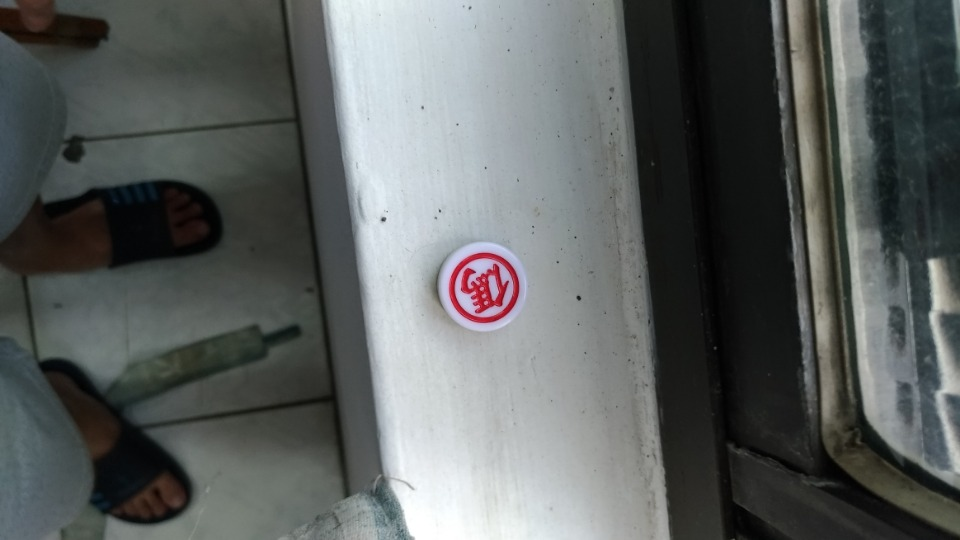r-knight: (429, 238, 537, 335)
